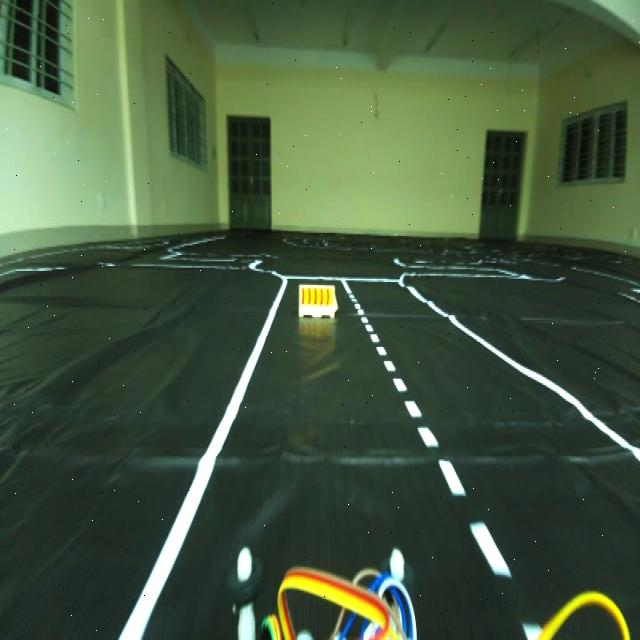roadblock: (296, 272, 336, 326)
